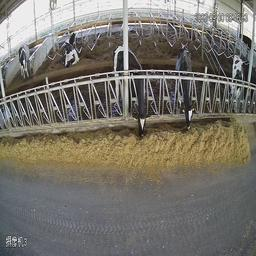cow: (112, 46, 148, 135), (175, 41, 197, 130), (226, 52, 245, 112), (63, 32, 81, 67), (15, 45, 29, 80)
